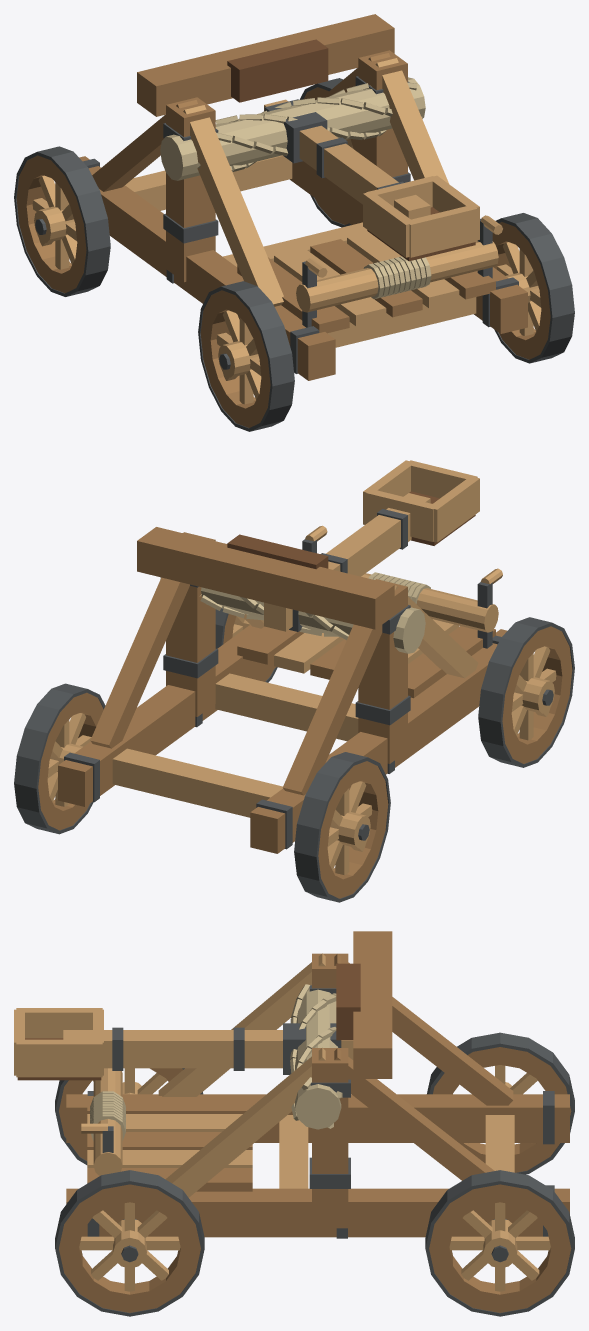
File: Catapult.glb
3 renders of one model, top to bottom at view 1: azimuth 30°, elevation 25°; view 2: azimuth 150°, elevation 25°; view 3: azimuth 270°, elevation 25°, orthographic.
Visible parts, largest first — view 1: Timber carriage, Throwing arm, Spoked wheel, Spoked wheel.001, Spoked wheel.003, Crank and ratchet, Spoked wheel.002; view 2: Timber carriage, Spoked wheel.001, Spoked wheel, Throwing arm, Spoked wheel.002, Crank and ratchet, Spoked wheel.003; view 3: Timber carriage, Spoked wheel.003, Spoked wheel.002, Throwing arm, Spoked wheel, Crank and ratchet, Spoked wheel.001.
Boxes of the visible parts, x1,y1,x2,y2 form: Timber carriage: (79, 14, 527, 380); Throwing arm: (264, 99, 479, 261); Spoked wheel: (14, 146, 110, 296); Spoked wheel.001: (198, 281, 294, 431); Spoked wheel.003: (492, 213, 574, 363); Crank and ratchet: (296, 215, 502, 327); Spoked wheel.002: (299, 78, 358, 227); Timber carriage: (58, 527, 507, 853); Spoked wheel.001: (478, 617, 574, 767); Spoked wheel: (294, 752, 390, 902); Throwing arm: (264, 460, 479, 631); Spoked wheel.002: (14, 683, 105, 834); Crank and ratchet: (302, 525, 502, 648); Spoked wheel.003: (215, 608, 277, 682); Timber carriage: (66, 931, 569, 1238); Spoked wheel.003: (55, 1170, 204, 1316); Spoked wheel.002: (425, 1170, 574, 1316); Throwing arm: (14, 1008, 353, 1080); Spoked wheel: (427, 1032, 574, 1174); Crank and ratchet: (81, 1068, 125, 1175); Spoked wheel.001: (55, 1068, 203, 1164).
Size of the model in its own units: 3.12 by 2.34 by 4.62.
